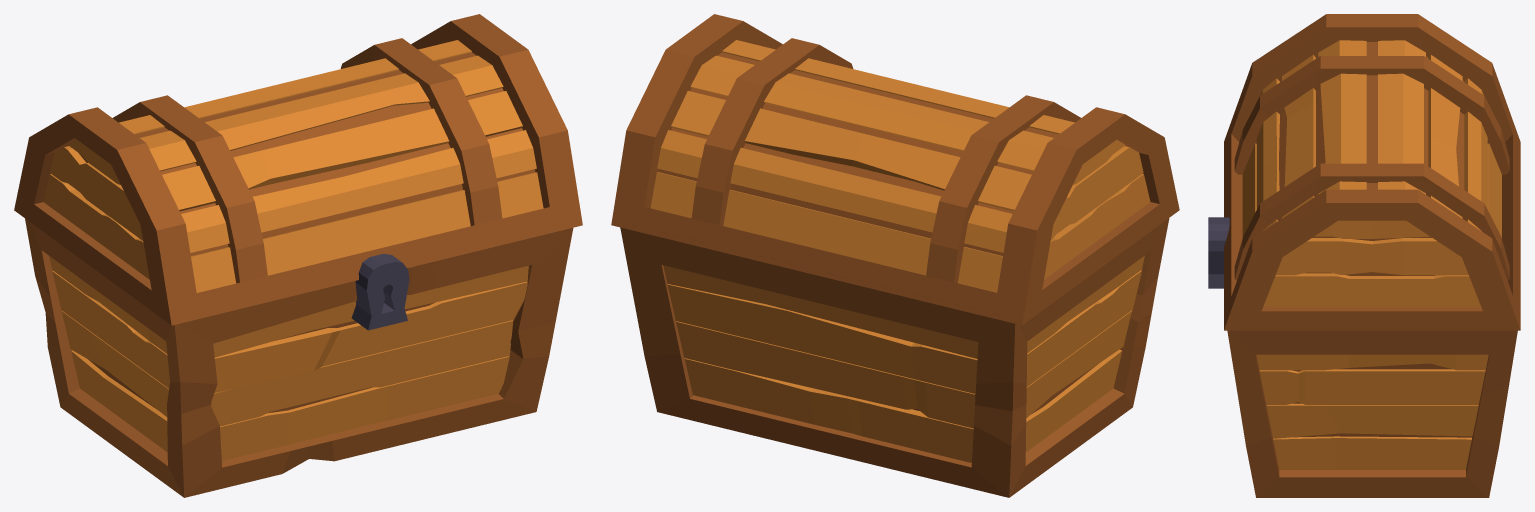
Rendered from treasurechest.glb.
3 renders of one model, left to right at view 1: azimuth 30°, elevation 25°; view 2: azimuth 150°, elevation 25°; view 3: azimuth 270°, elevation 25°, orthographic. The views are drawn at different scales.
Parts seen in each view (by area): view 1: Chest_Top, Chest_Base; view 2: Chest_Top, Chest_Base; view 3: Chest_Top, Chest_Base.
Boxes of the visible parts, <box> form: Chest_Top: <box>14,14,582,325</box>; Chest_Base: <box>25,218,573,497</box>; Chest_Top: <box>611,14,1179,325</box>; Chest_Base: <box>620,218,1169,497</box>; Chest_Top: <box>1224,14,1520,330</box>; Chest_Base: <box>1208,217,1517,497</box>.
Bounding box in the file's own units: 1.18 × 0.8985 × 0.8238.
